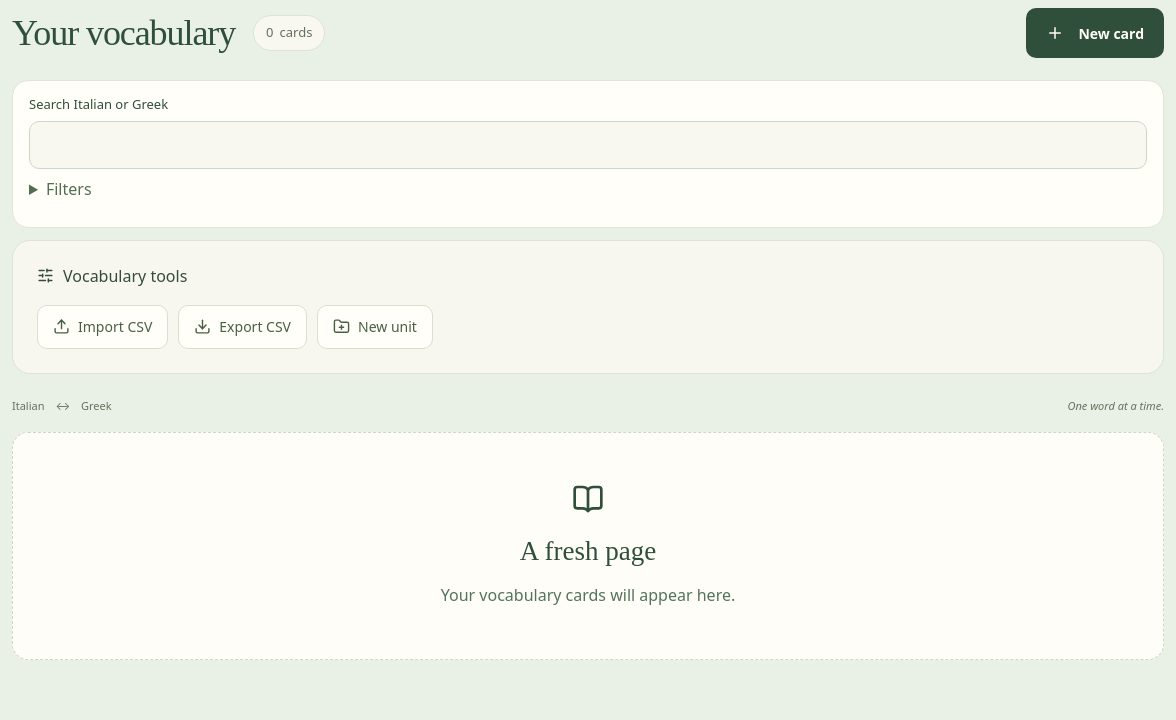
Test: an export error is announced and the same button retries
This screenshot has width=1176, height=720.
Click the button with aria-label "Export full library (CSV)" at (243,327), box [178,305,307,349]
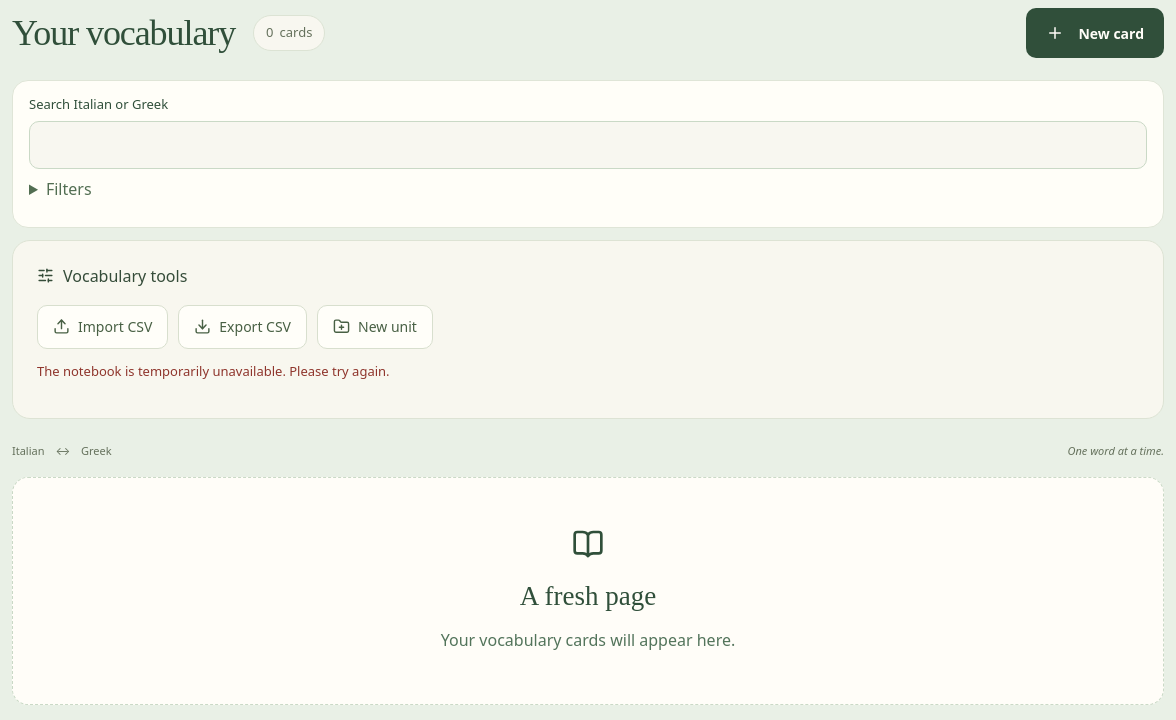
Expected: the message reads "The notebook is temporarily unavailable. Please try again.", [37,362,390,380]
Click the button with aria-label "Export full library (CSV)" at (243,327), box [178,305,307,349]
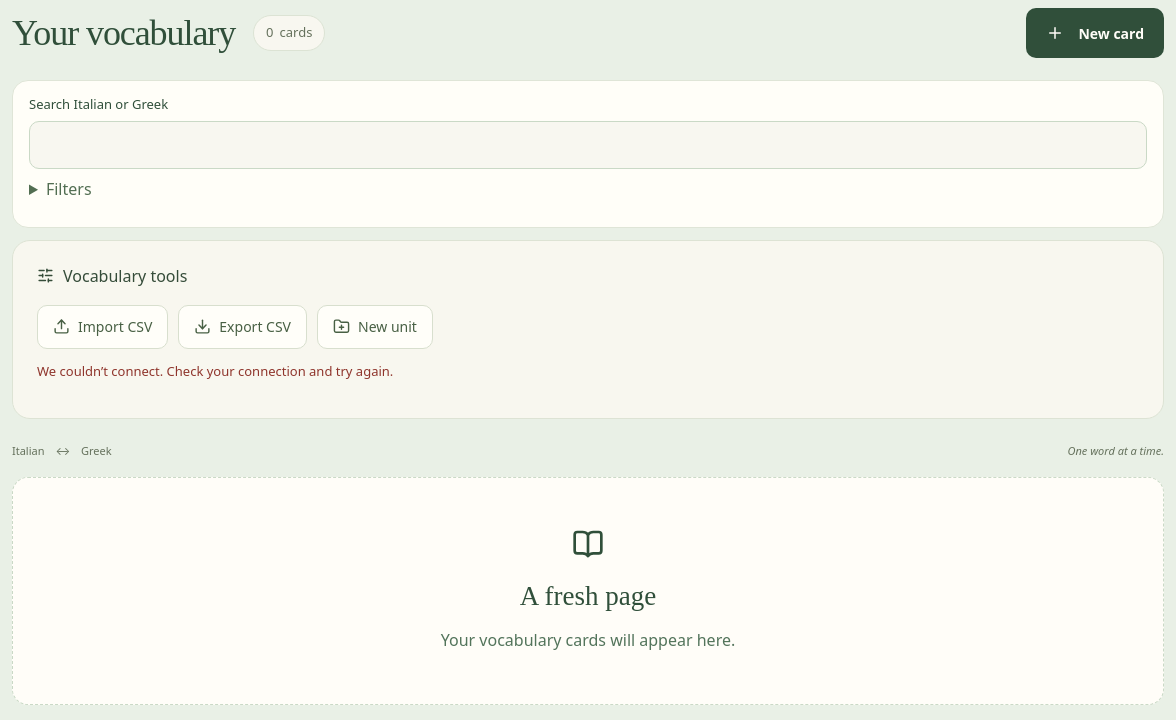
Expected: the message reads "We couldn’t connect. Check your connection and try again.", [37,362,393,380]
